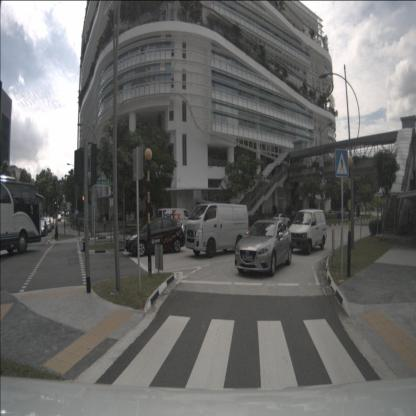human-pedestrian-adult: (76, 218, 80, 240), (55, 215, 58, 240), (103, 215, 106, 232)
vehicle-bus-rigid: (0, 174, 42, 254)
vehicle-car: (184, 204, 250, 258), (235, 219, 292, 277), (124, 217, 185, 257), (288, 209, 327, 255), (156, 208, 193, 233), (272, 214, 290, 226), (37, 220, 47, 237), (43, 217, 52, 233), (47, 217, 54, 229), (56, 213, 62, 222)
